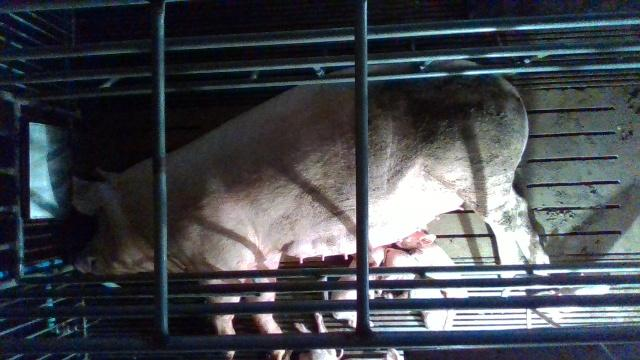piglet: (386, 248, 456, 331), (396, 230, 467, 298), (330, 244, 385, 327)
sow-sleep-lactate: (70, 60, 550, 360)
